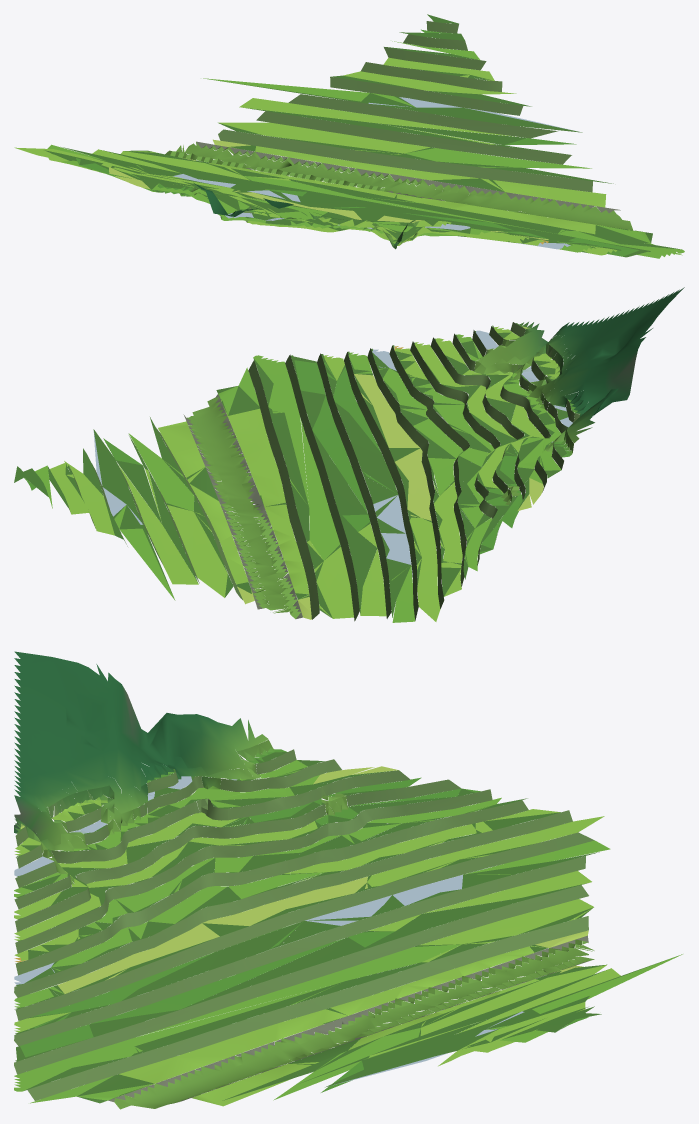
The model's file is payo_land_xm1_y4_lod1.glb.
The picture shows the model from 3 angles, top to bottom: view 1: azimuth 30°, elevation 25°; view 2: azimuth 150°, elevation 25°; view 3: azimuth 270°, elevation 25°; orthographic projection. The views are drawn at different scales.
Parts seen in each view (by area): view 1: payo_land_xm1_y4; view 2: payo_land_xm1_y4; view 3: payo_land_xm1_y4.
Part boxes in pixels (left/top/right/bottom): payo_land_xm1_y4: left=14, top=14, right=684, bottom=258; payo_land_xm1_y4: left=14, top=287, right=684, bottom=622; payo_land_xm1_y4: left=14, top=651, right=682, bottom=1109.
Size of the model in its own units: 279 by 106 by 301.
